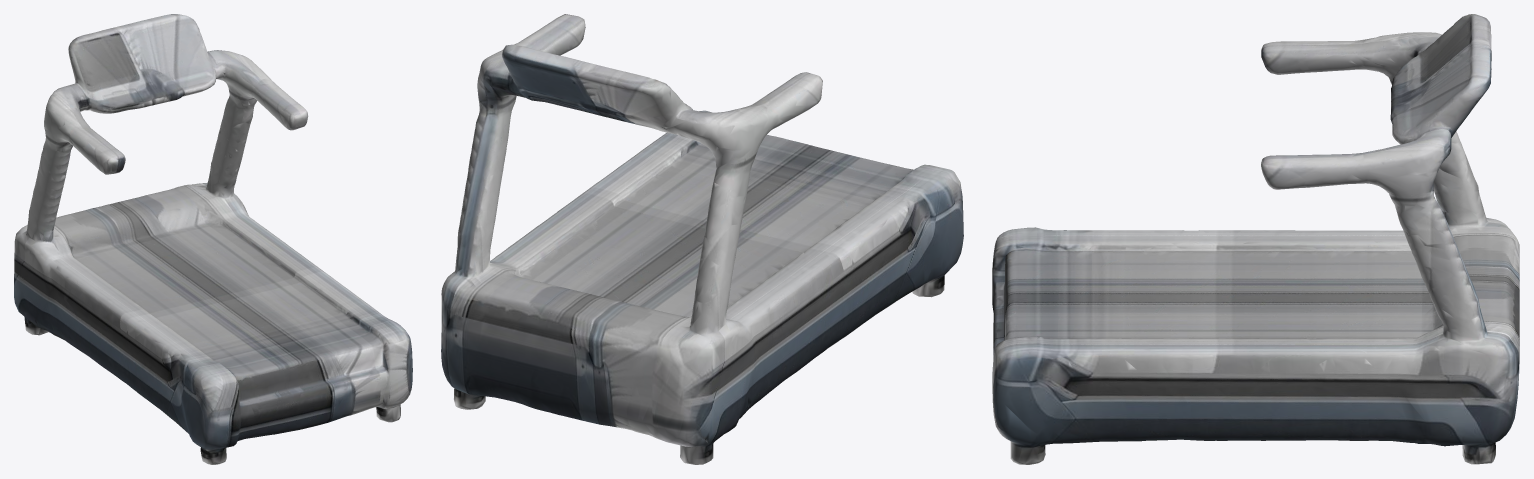
The model's file is treadmill.glb.
3 views of the same model, side by side, from view 1: azimuth 30°, elevation 25°; view 2: azimuth 150°, elevation 25°; view 3: azimuth 270°, elevation 25° (orthographic). The views are drawn at different scales.
Parts seen in each view (by area): view 1: geometry_0; view 2: geometry_0; view 3: geometry_0.
Part boxes in pixels (<box>): geometry_0: <box>14,14,412,464</box>; geometry_0: <box>441,14,963,464</box>; geometry_0: <box>992,14,1519,464</box>.
Bounding box in the file's own units: 1.16 × 1.48 × 1.96.
1 material, 1 textured.
